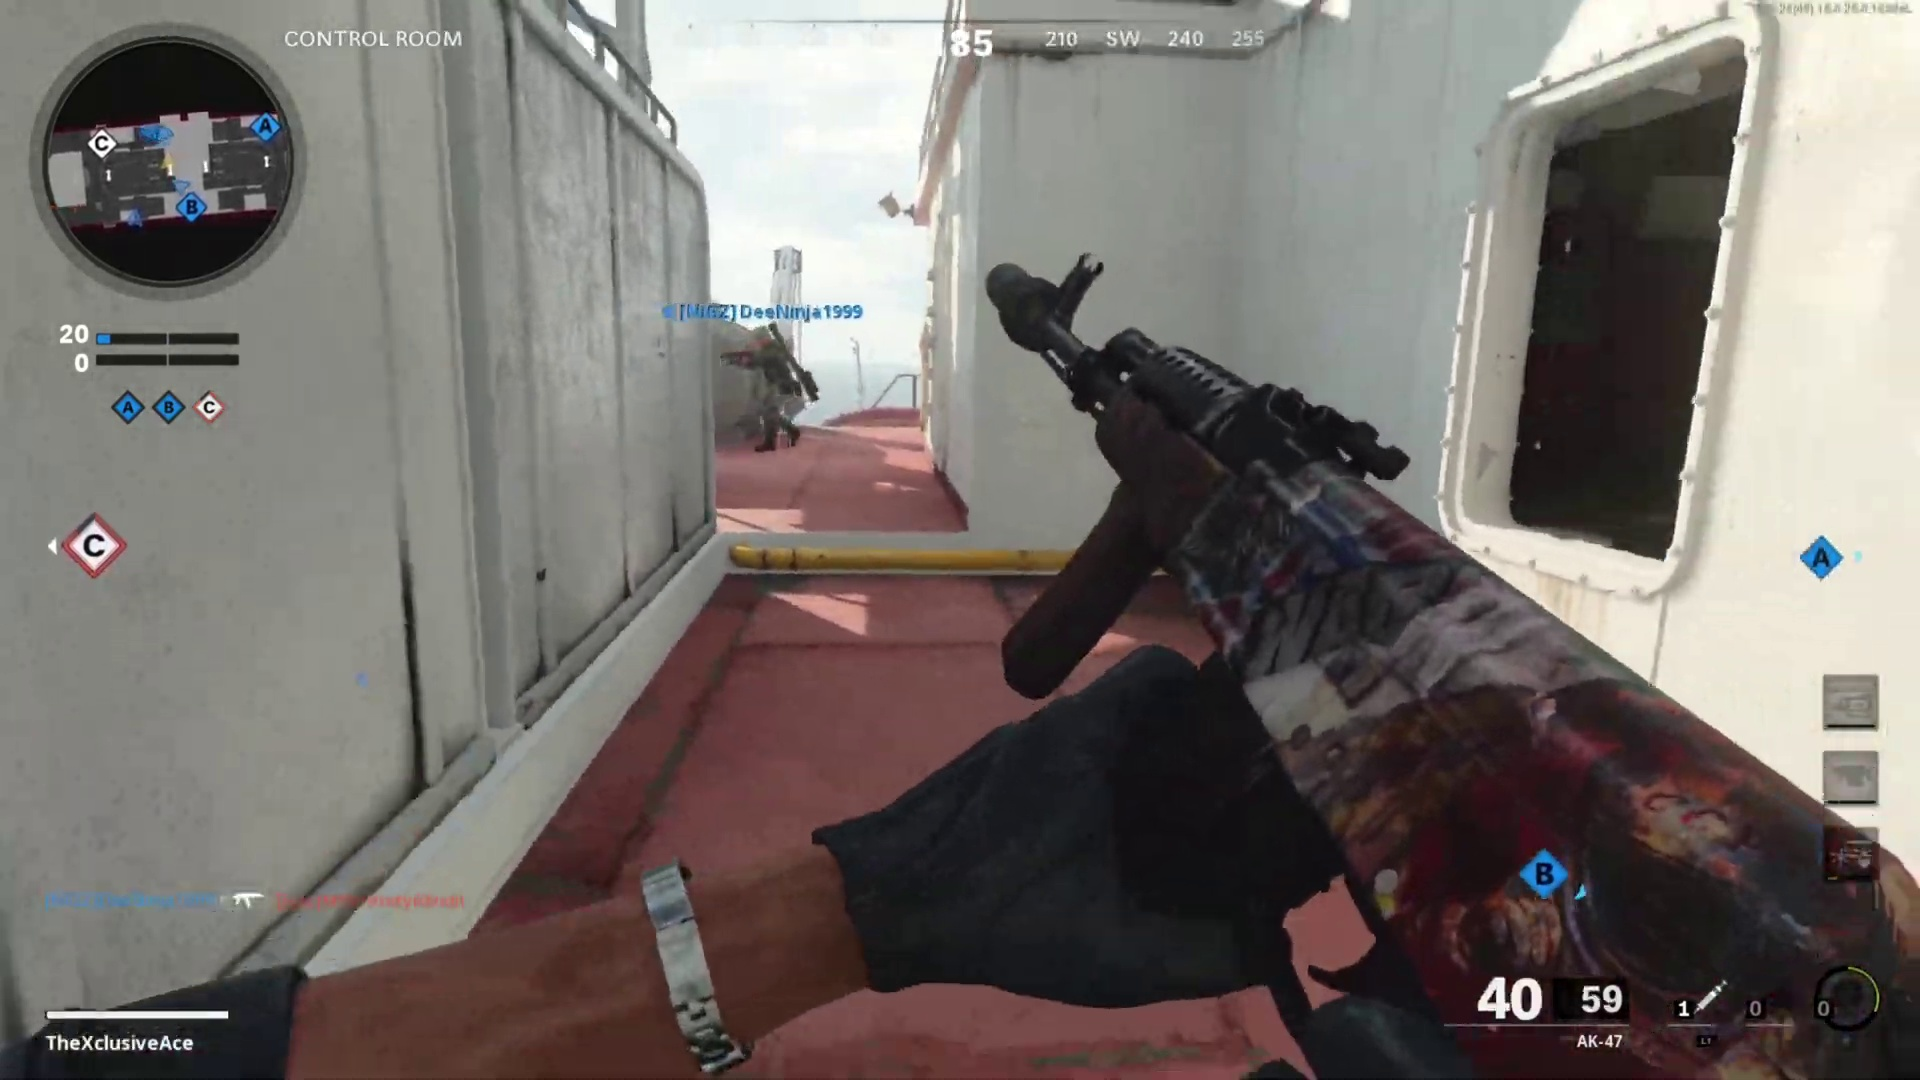head: (739, 323, 772, 356)
person: (729, 326, 811, 448)
